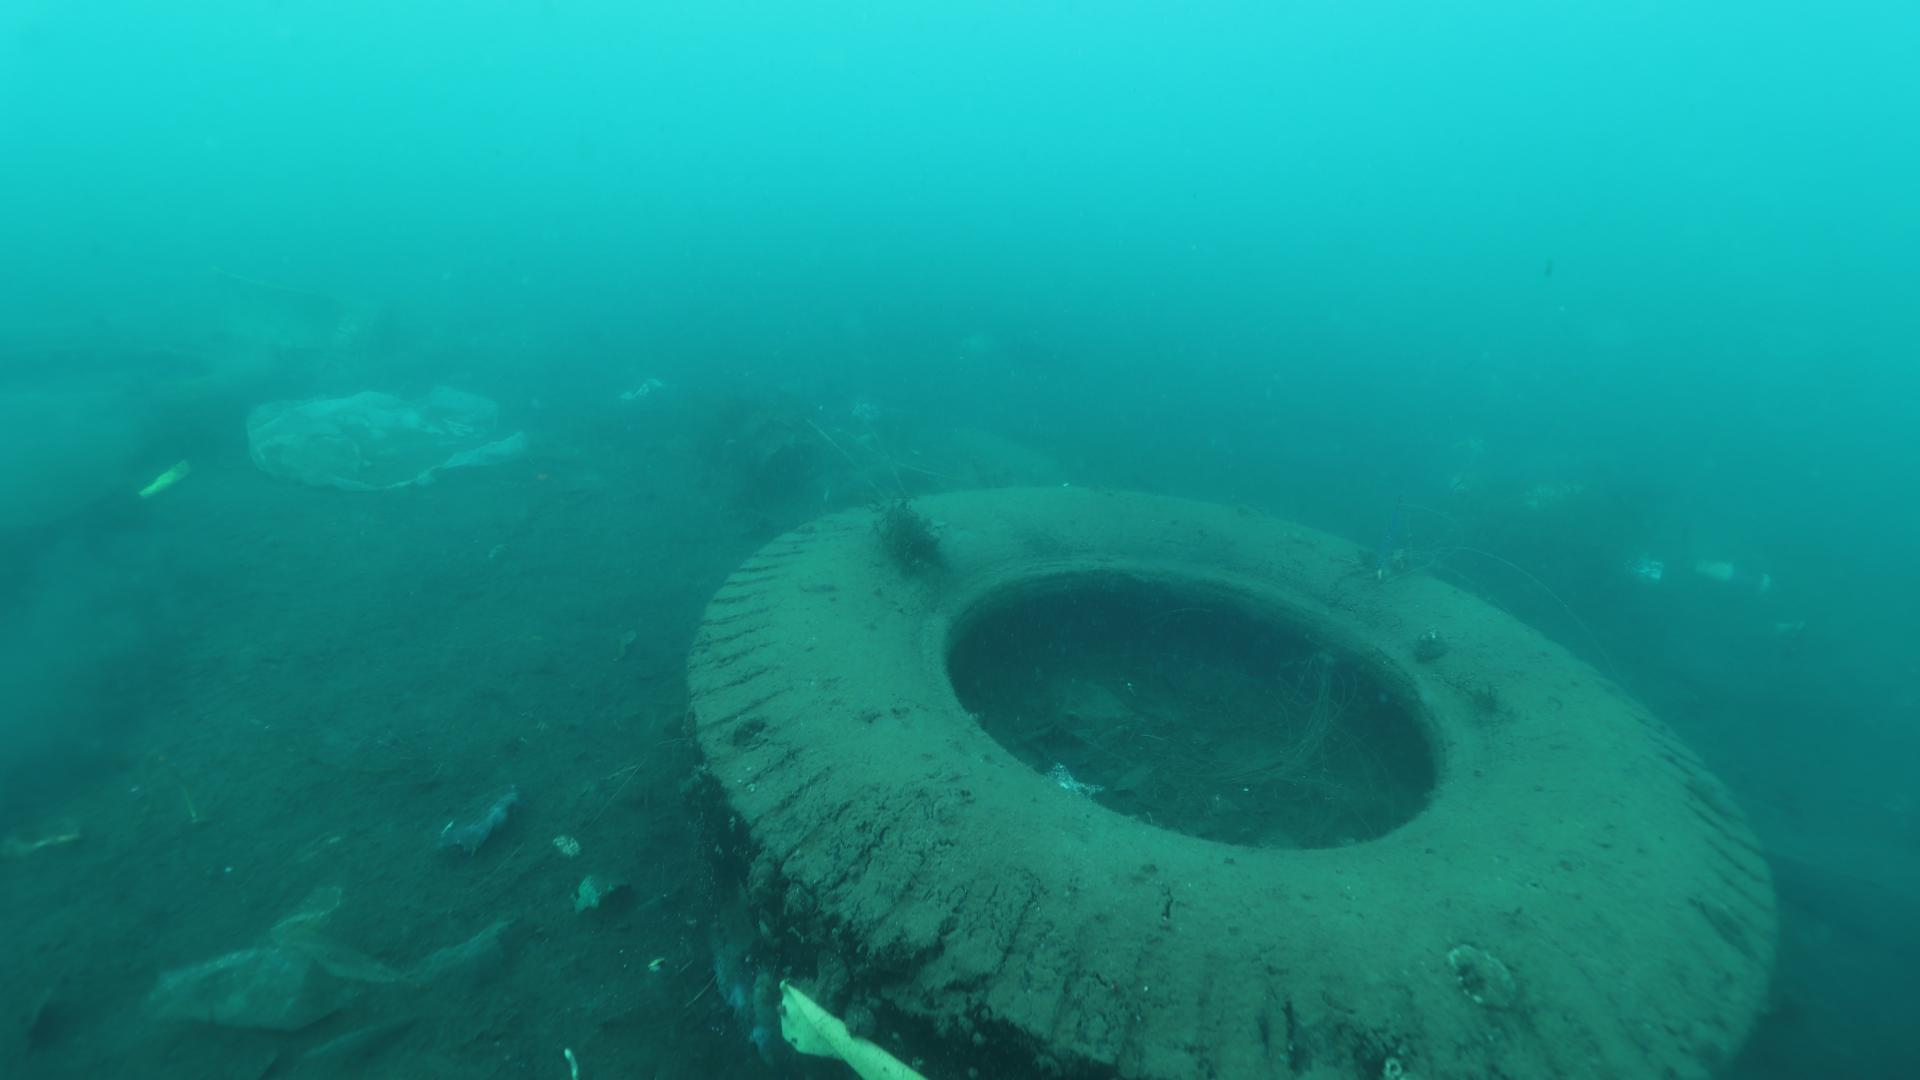tire: (684, 483, 1774, 1080)
